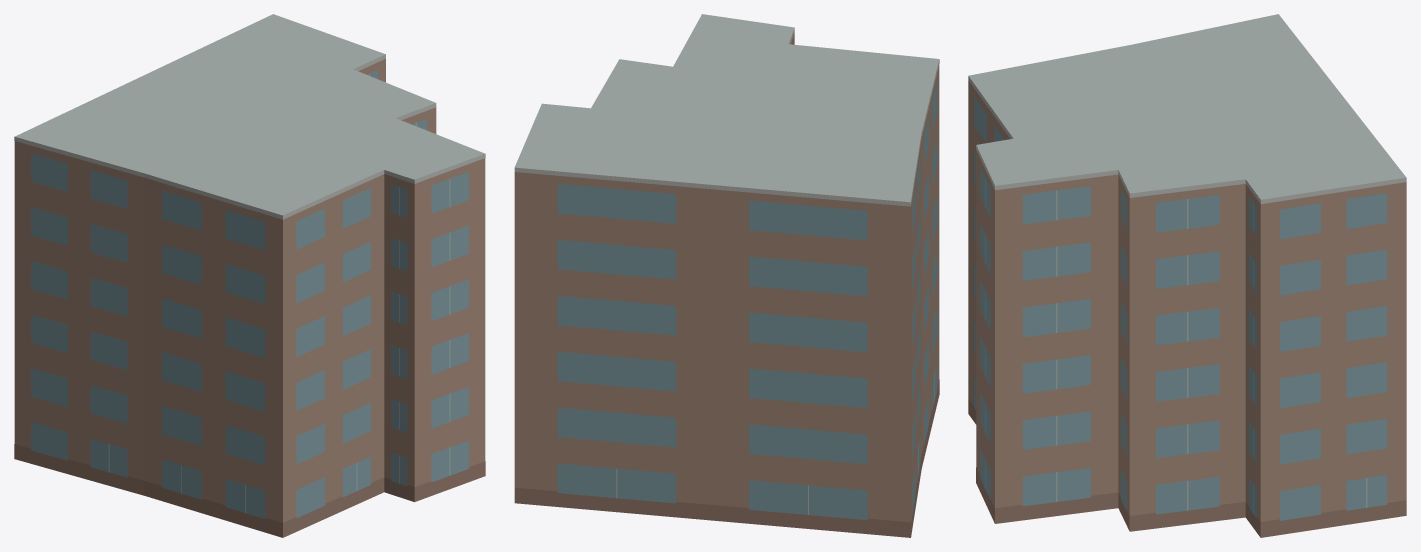
File: survey-upis-32724953.glb
The picture shows the model from 3 angles, left to right: view 1: azimuth 30°, elevation 25°; view 2: azimuth 150°, elevation 25°; view 3: azimuth 270°, elevation 25°; orthographic projection. The views are drawn at different scales.
Visible parts, largest first — view 1: survey-upis-32724953.tmp; view 2: survey-upis-32724953.tmp; view 3: survey-upis-32724953.tmp.
Part boxes in pixels (x1=…): survey-upis-32724953.tmp: x1=14, y1=14, x2=485, y2=537; survey-upis-32724953.tmp: x1=514, y1=14, x2=939, y2=537; survey-upis-32724953.tmp: x1=968, y1=14, x2=1406, y2=537.
Size of the model in its own units: 22.05 by 18.7 by 21.98.
